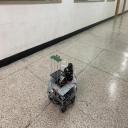cart: (46, 74, 78, 113)
